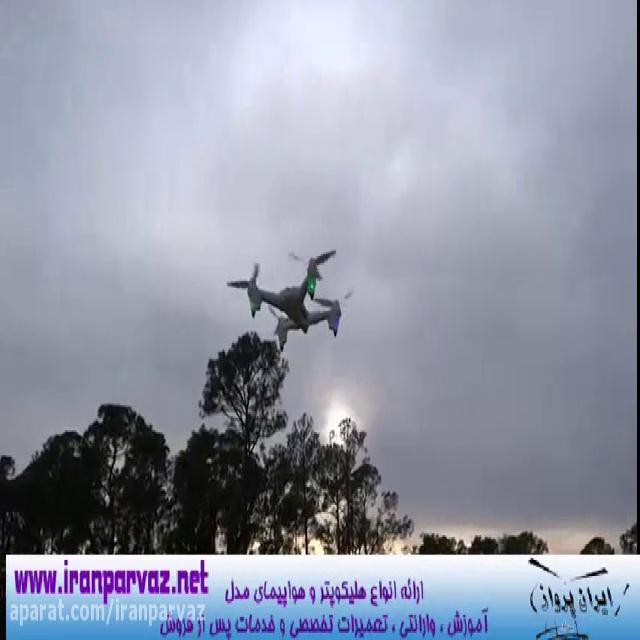drone: (223, 240, 357, 357)
